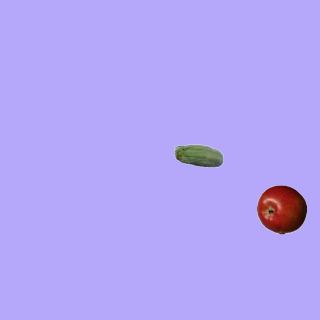Apple Braeburn: (256, 184, 306, 234)
Corn Husk: (173, 132, 223, 182)
